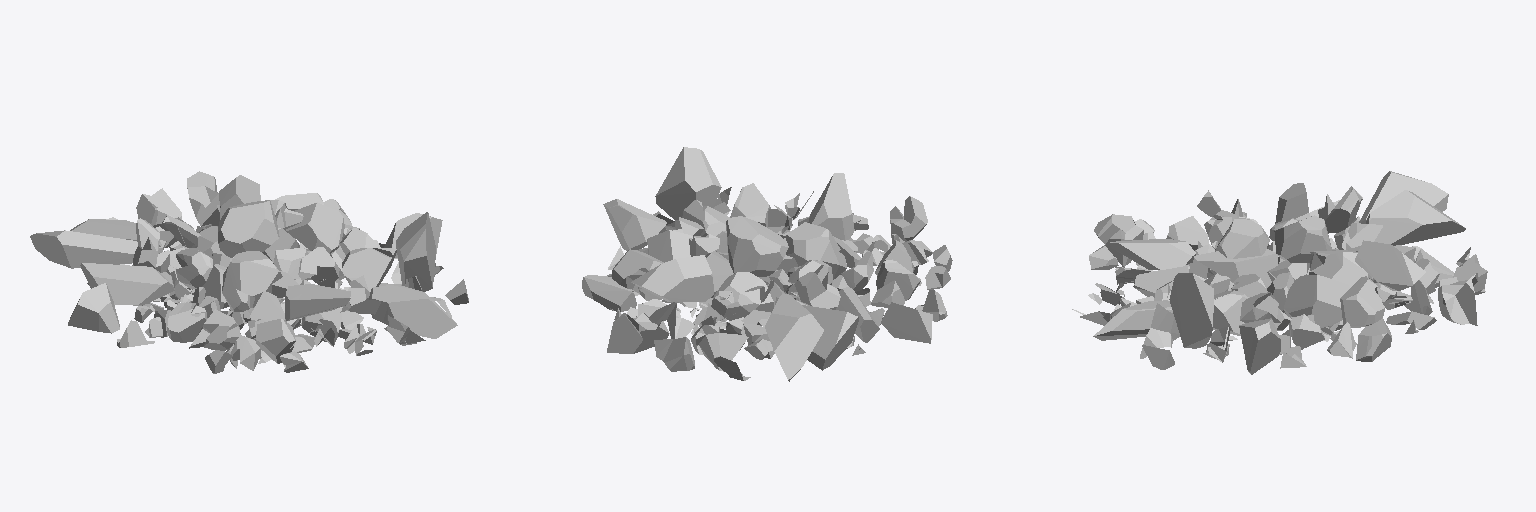
Rendered from rock2.obj.
3 renders of one model, left to right at view 1: azimuth 30°, elevation 25°; view 2: azimuth 150°, elevation 25°; view 3: azimuth 270°, elevation 25°, orthographic.
Visible parts, largest first — view 1: Icosphere_cell.037; view 2: Icosphere_cell.037; view 3: Icosphere_cell.037.
Boxes of the visible parts, x1,y1,x2,y2 form: Icosphere_cell.037: [30, 171, 468, 373]; Icosphere_cell.037: [582, 147, 952, 381]; Icosphere_cell.037: [1072, 171, 1487, 374].
Bounding box in the file's own units: 2.56 × 0.6348 × 2.62.